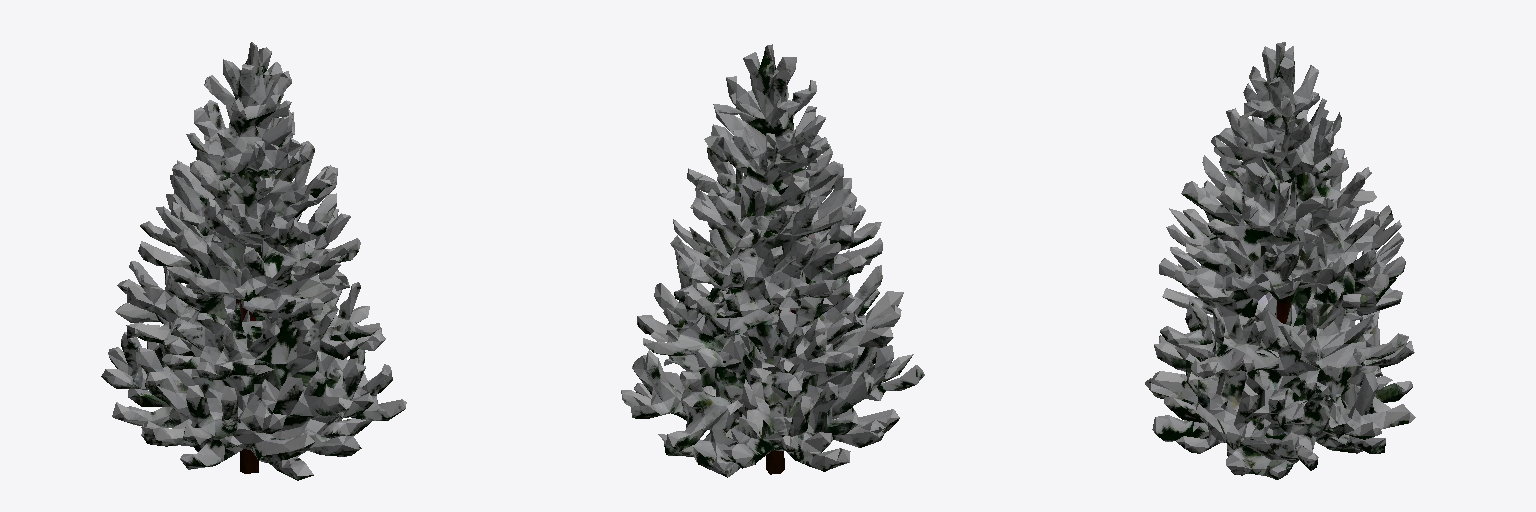
3 renders of one model, left to right at view 1: azimuth 30°, elevation 25°; view 2: azimuth 150°, elevation 25°; view 3: azimuth 270°, elevation 25°, orthographic.
Visible parts, largest first — view 1: tripo_node_cb5e35fe-8889-40e3-b0bc-[number redacted]a5; view 2: tripo_node_cb5e35fe-8889-40e3-b0bc-[number redacted]a5; view 3: tripo_node_cb5e35fe-8889-40e3-b0bc-[number redacted]a5.
Boxes of the visible parts, x1,y1,x2,y2 form: tripo_node_cb5e35fe-8889-40e3-b0bc-[number redacted]a5: [101, 42, 406, 480]; tripo_node_cb5e35fe-8889-40e3-b0bc-[number redacted]a5: [621, 44, 924, 477]; tripo_node_cb5e35fe-8889-40e3-b0bc-[number redacted]a5: [1145, 42, 1415, 479].
Size of the model in its own units: 0.5741 by 0.9982 by 0.5769.
1 materials, 1 textured.